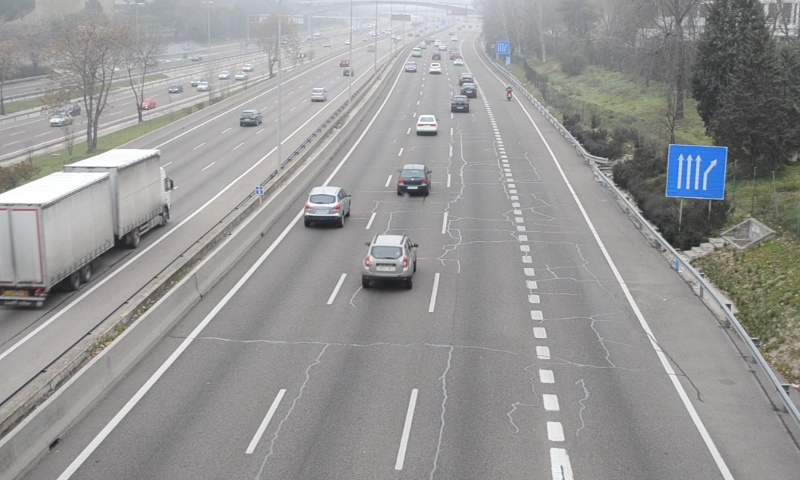car: (362, 234, 416, 280), (306, 186, 350, 220), (396, 164, 430, 194), (416, 113, 438, 134), (450, 95, 469, 113)
motorcycle: (505, 84, 514, 102)
